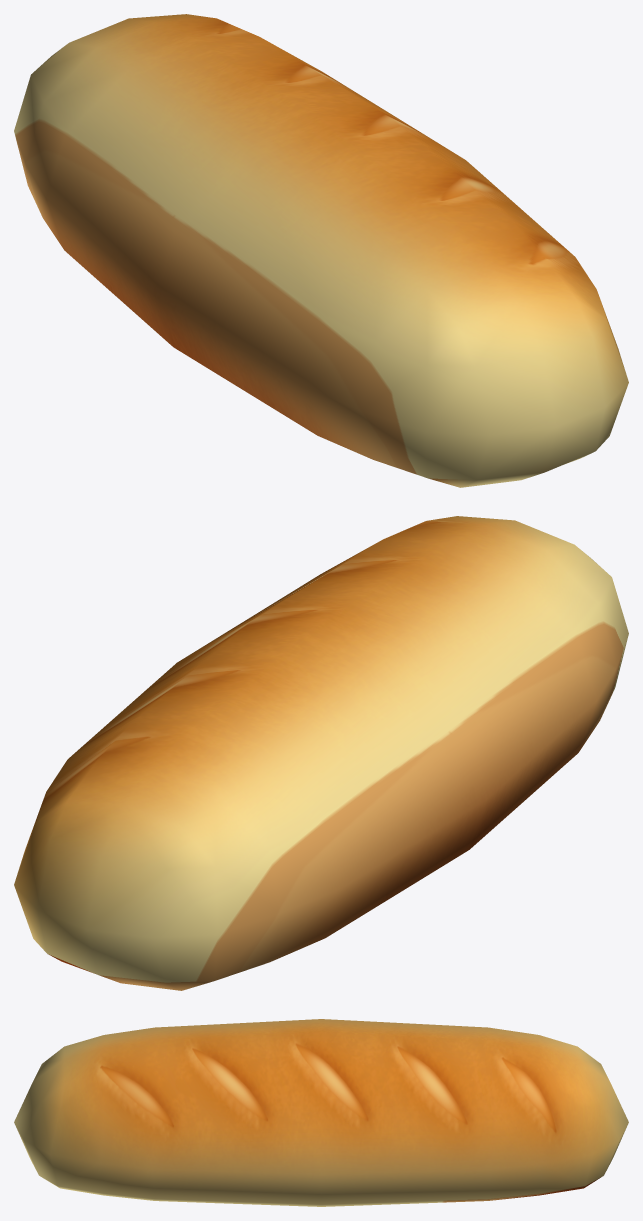
The model's file is French_02.fbx.
The picture shows the model from 3 angles, top to bottom: view 1: azimuth 30°, elevation 25°; view 2: azimuth 150°, elevation 25°; view 3: azimuth 270°, elevation 25°; orthographic projection. The views are drawn at different scales.
Parts seen in each view (by area): view 1: French_02; view 2: French_02; view 3: French_02.
Boxes of the visible parts, x1,y1,x2,y2 form: French_02: (14,14,628,487); French_02: (14,516,628,990); French_02: (14,1019,628,1206).
Size of the model in its own units: 39.86 by 27.37 by 98.1.
